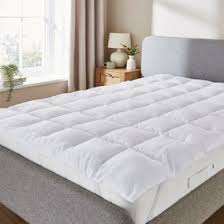bed-matress: (1, 73, 221, 224)
